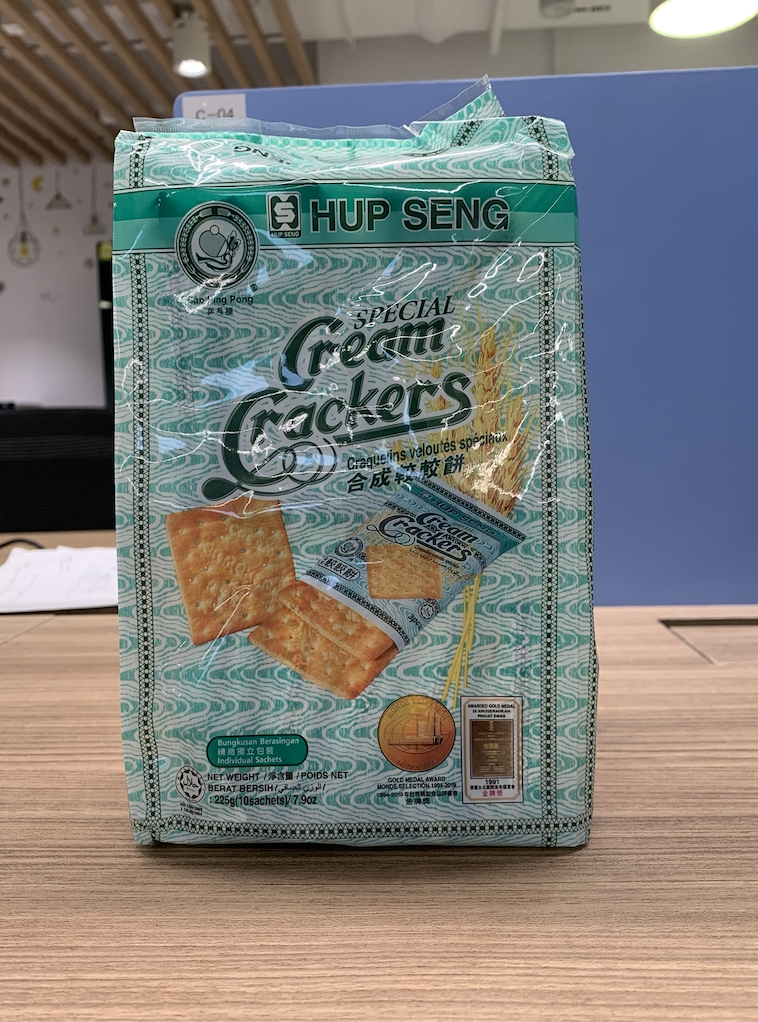crackers_200g-299g: (123, 140, 584, 842)
